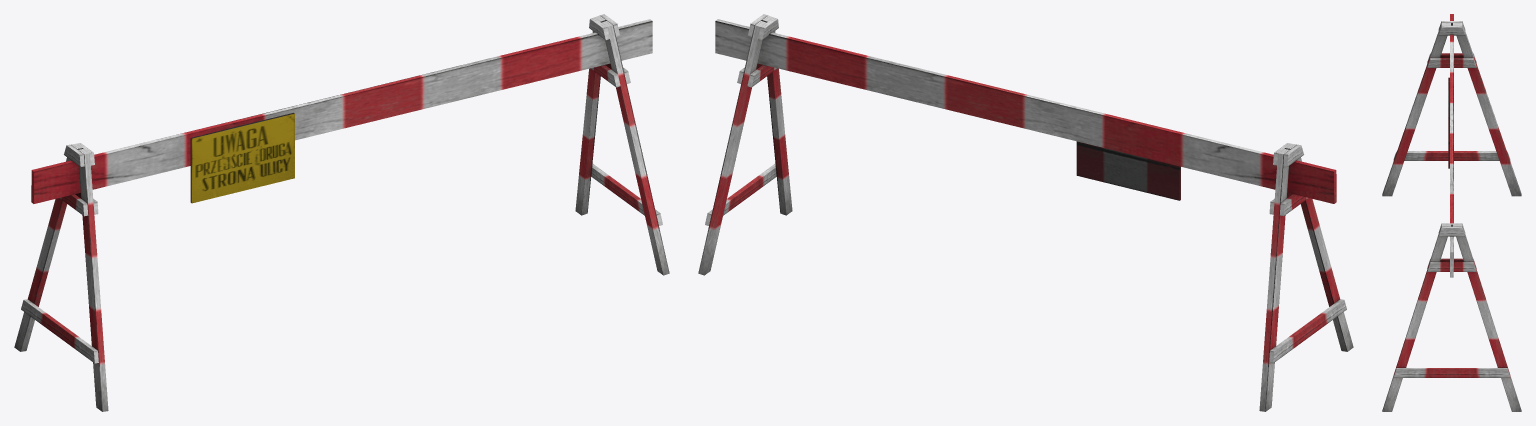
The model's file is barrier_3m_sign.glb.
The picture shows the model from 3 angles, left to right: view 1: azimuth 30°, elevation 25°; view 2: azimuth 150°, elevation 25°; view 3: azimuth 270°, elevation 25°; orthographic projection. The views are drawn at different scales.
Visible parts, largest first — view 1: Barieraka_Drewno_3m_Znak_0; view 2: Barieraka_Drewno_3m_Znak_0; view 3: Barieraka_Drewno_3m_Znak_0.
Part boxes in pixels (x1,y1,x2,y2): Barieraka_Drewno_3m_Znak_0: (14,14,669,411); Barieraka_Drewno_3m_Znak_0: (698,14,1353,411); Barieraka_Drewno_3m_Znak_0: (1382,14,1521,411).
Bounding box in the file's own units: 3 × 1.05 × 0.74.
Materials: 1 (1 with a texture image).
